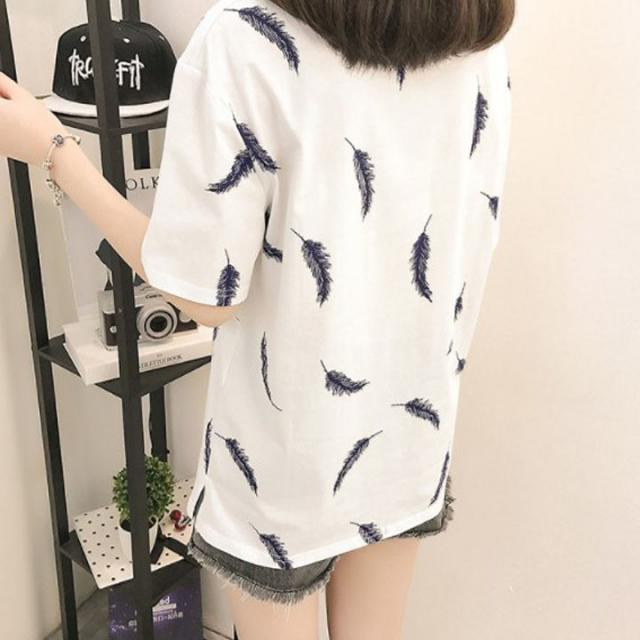shirt: (139, 0, 521, 574)
